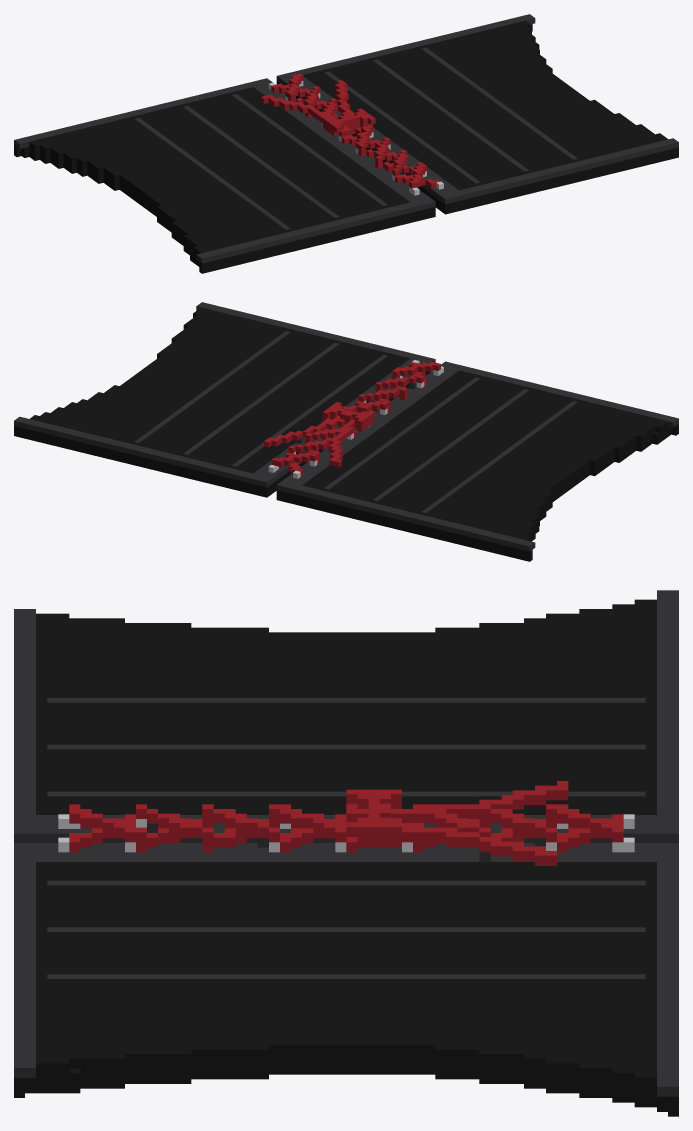
File: corset_waist.glb
3 views of the same model, one above another, from view 1: azimuth 30°, elevation 25°; view 2: azimuth 150°, elevation 25°; view 3: azimuth 270°, elevation 25° (orthographic). The views are drawn at different scales.
Visible parts, largest first — view 1: corset_waist:compound; view 2: corset_waist:compound; view 3: corset_waist:compound.
Boxes of the visible parts, box(x1,y1,x2,y2) form: corset_waist:compound: box(14, 14, 678, 273); corset_waist:compound: box(14, 302, 678, 561); corset_waist:compound: box(14, 590, 678, 1116).
Size of the model in its own units: 0.424 by 0.024 by 0.24.
